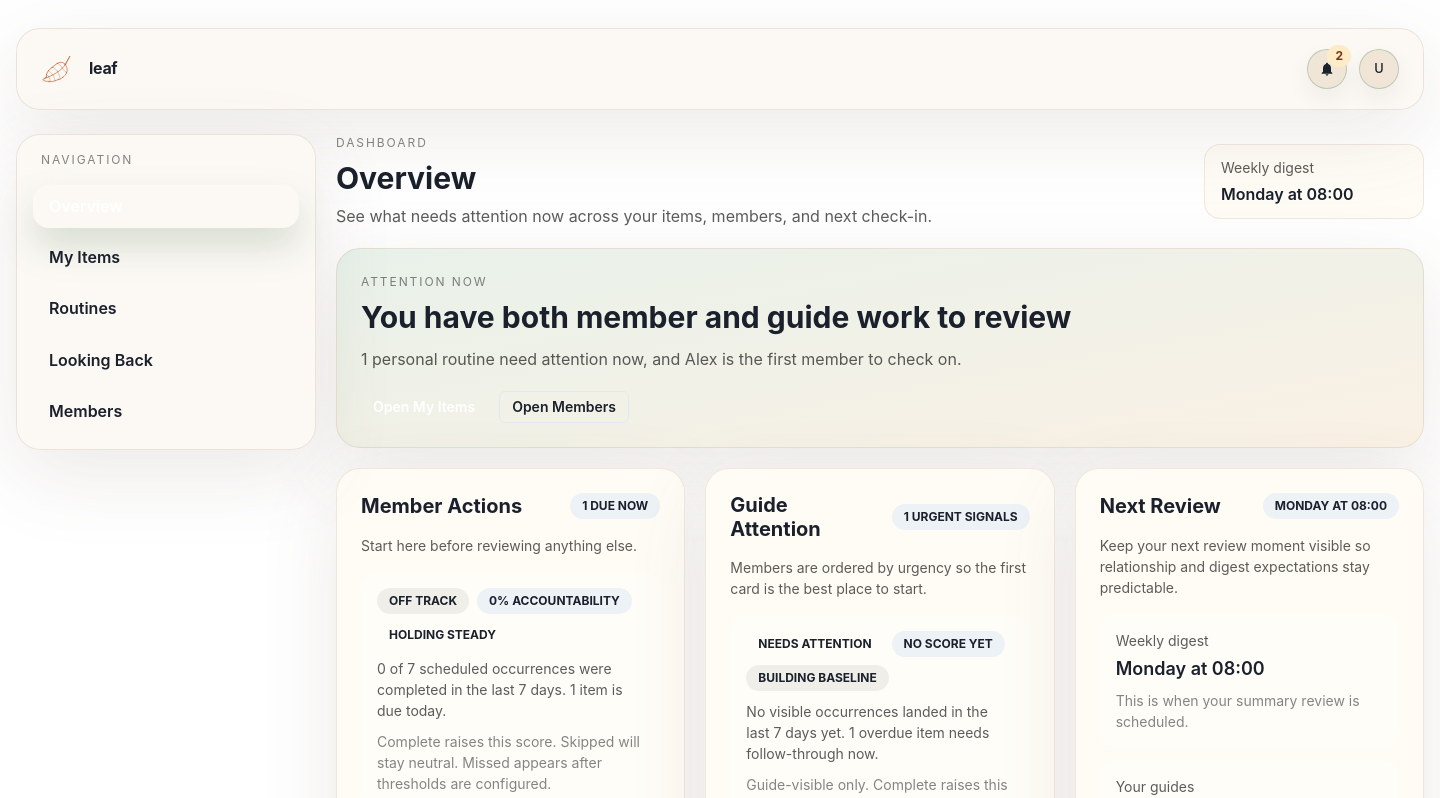
Test case: App routes › opens the mailbox inbox from the header and shows feed entries
What coordinates should you click on to do the following:
click the button named "Open notifications inbox"
I would click on:
 (1327, 69)
Its box is [1307,49,1347,89].
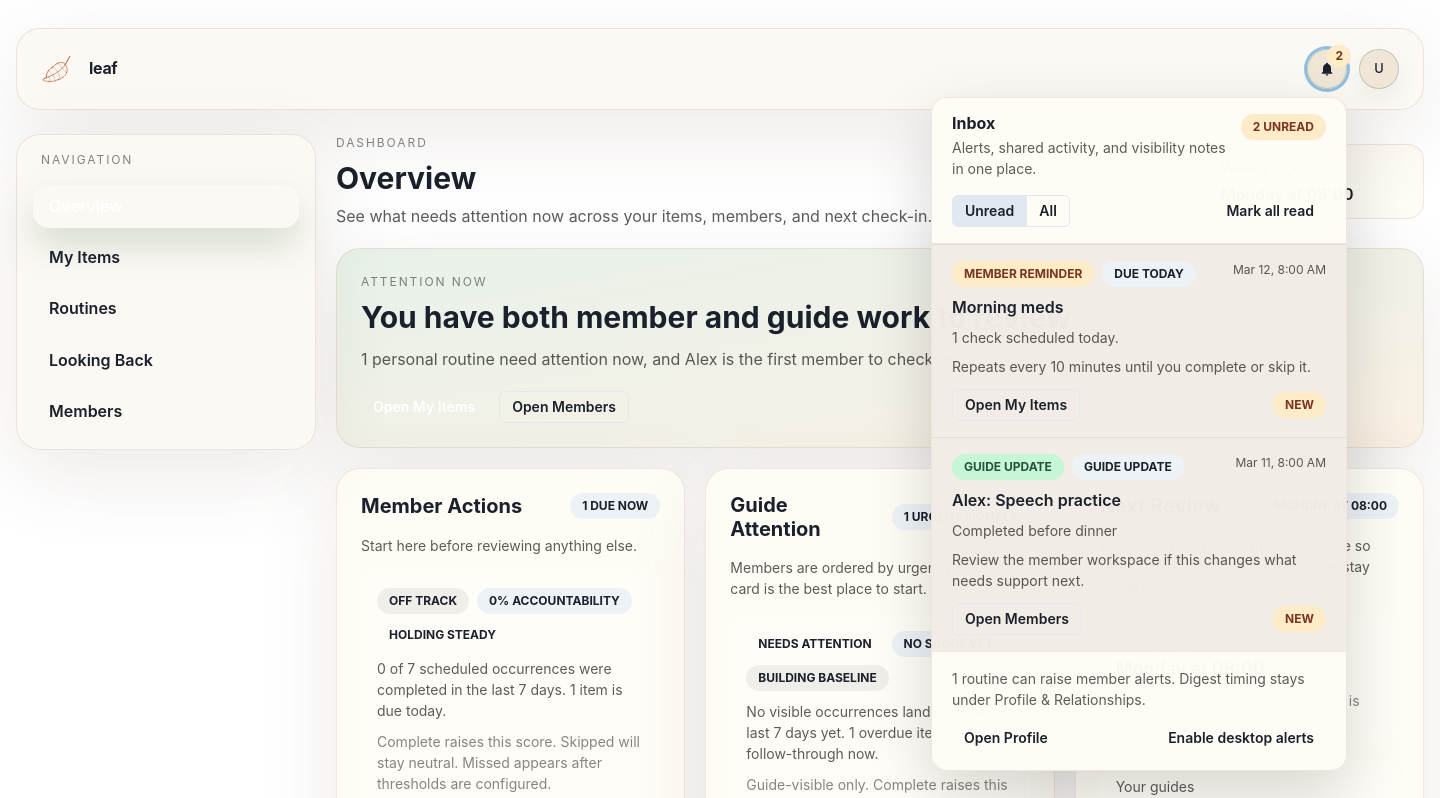
Now the heading "Inbox" is shown, box [952,113,995,133]
Now the 1st text "Guide update" is shown, box [952,454,1064,480]
Now the text "1 routine can raise member alerts. Digest timing stays under Profile & Relationships." is shown, box [952,670,1305,708]
